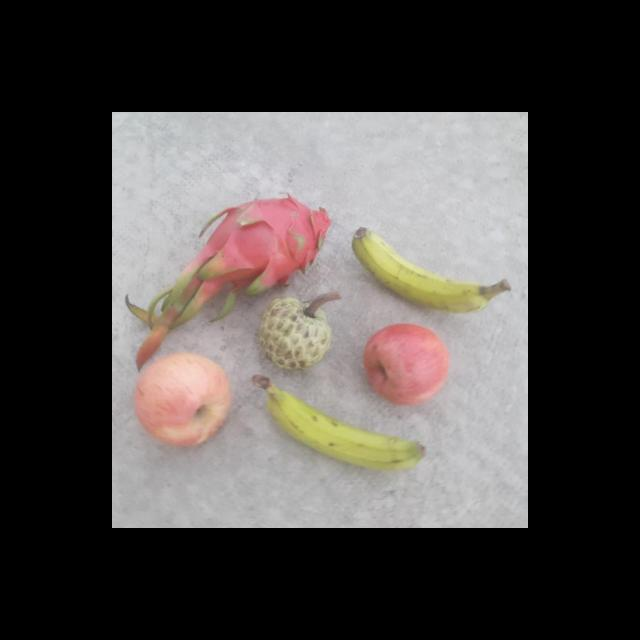Sakya fruit: (254, 294, 338, 372)
apple: (132, 351, 237, 451), (362, 322, 452, 404)
banana: (254, 373, 426, 477), (350, 225, 512, 319)
pitaya: (191, 188, 342, 295)
